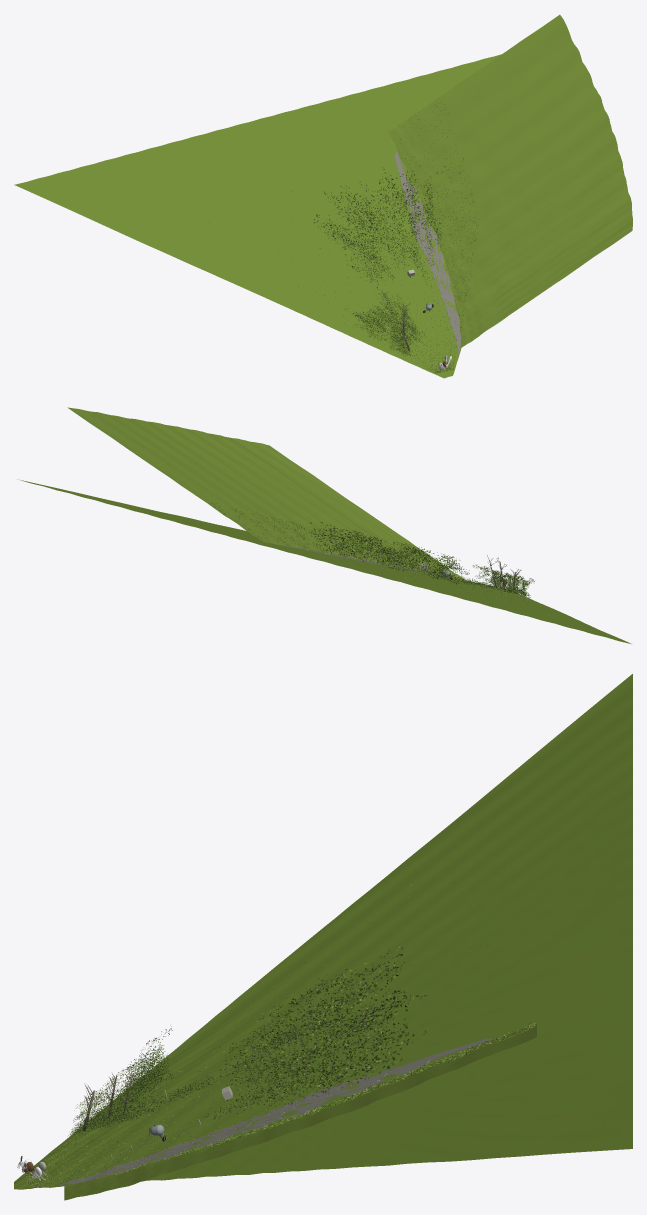
File: scene-5-ours.glb
3 views of the same model, one above another, from view 1: azimuth 30°, elevation 25°; view 2: azimuth 150°, elevation 25°; view 3: azimuth 270°, elevation 25° (orthographic). The views are drawn at different scales.
Visible parts, largest first — view 1: uneven_meadow_0001, monotonic_xy_sloping_bank_0003, independent_budget_depth_layered_leaves_0208, locally_refitted_gravel_track_0002, independent_budget_depth_layered_leaves_0206; view 2: monotonic_xy_sloping_bank_0003, uneven_meadow_0001, independent_budget_depth_layered_leaves_0208, projected_coverage_bank_grass_0007, independent_budget_depth_layered_leaves_0206; view 3: uneven_meadow_0001, independent_budget_depth_layered_leaves_0208, monotonic_xy_sloping_bank_0003, locally_refitted_gravel_track_0002, independent_budget_depth_layered_leaves_0206, projected_coverage_bank_grass_0007, dense_interwoven_pasture_grass_0004, interwoven_canopy_shoots_0207, independent_budget_depth_layered_leaves_0210.
Part boxes in pixels (x1,y1,x2,y2): uneven_meadow_0001: (14, 54, 501, 378); monotonic_xy_sloping_bank_0003: (388, 14, 632, 347); independent_budget_depth_layered_leaves_0208: (313, 167, 441, 308); locally_refitted_gravel_track_0002: (390, 140, 460, 353); independent_budget_depth_layered_leaves_0206: (344, 293, 426, 355); monotonic_xy_sloping_bank_0003: (67, 407, 465, 579); uneven_meadow_0001: (19, 479, 631, 643); independent_budget_depth_layered_leaves_0208: (310, 522, 480, 586); projected_coverage_bank_grass_0007: (209, 501, 430, 571); independent_budget_depth_layered_leaves_0206: (473, 565, 534, 598); uneven_meadow_0001: (14, 674, 632, 1189); independent_budget_depth_layered_leaves_0208: (169, 944, 426, 1119); monotonic_xy_sloping_bank_0003: (64, 1022, 536, 1200); locally_refitted_gravel_track_0002: (56, 1028, 520, 1185); independent_budget_depth_layered_leaves_0206: (67, 1026, 173, 1138); projected_coverage_bank_grass_0007: (94, 1022, 537, 1178); dense_interwoven_pasture_grass_0004: (26, 856, 518, 1187); interwoven_canopy_shoots_0207: (184, 949, 393, 1115); independent_budget_depth_layered_leaves_0210: (70, 1080, 210, 1135).
Bounding box in the file's own units: 169 × 59.91 × 88.5.
